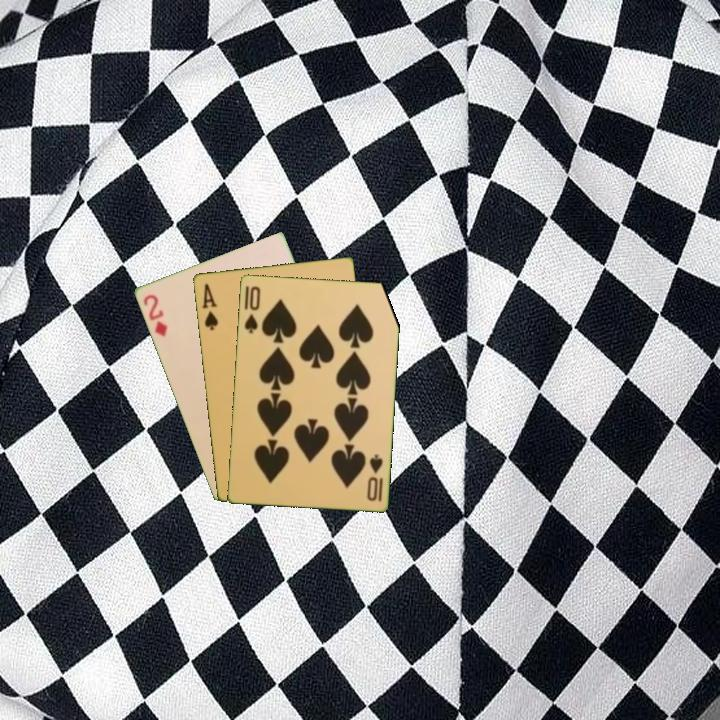10s: (241, 282, 263, 336), (363, 450, 385, 504)
2d: (139, 291, 170, 339)
As: (198, 280, 220, 333)
